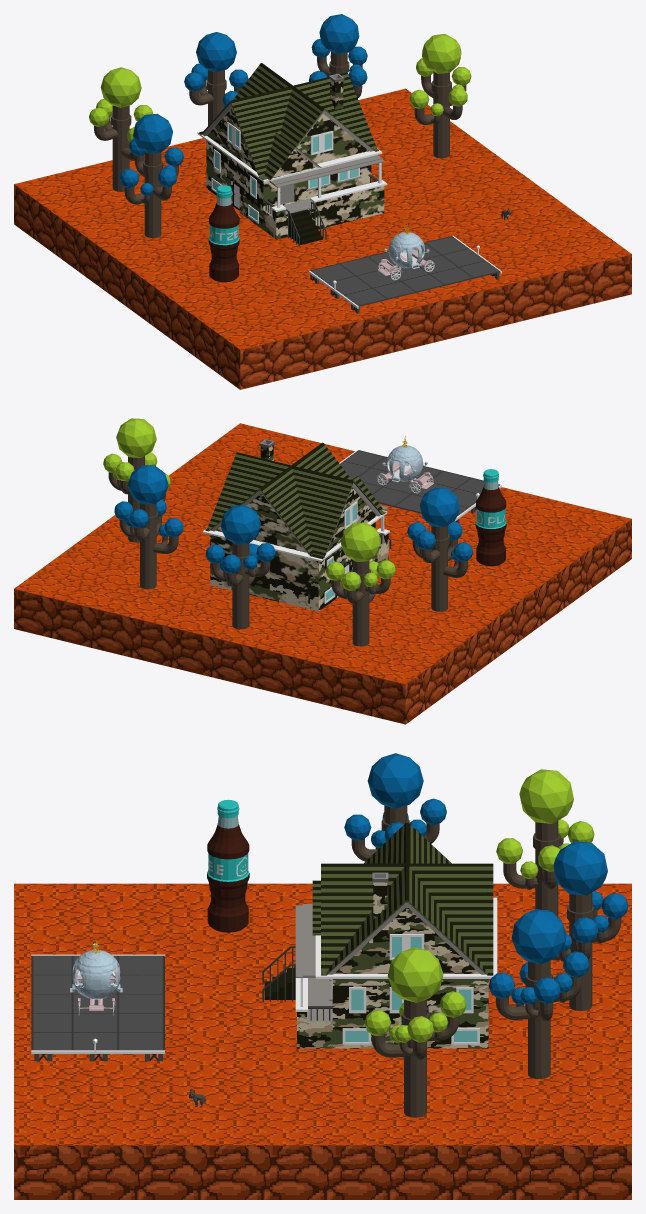
3 views of the same model, one above another, from view 1: azimuth 30°, elevation 25°; view 2: azimuth 150°, elevation 25°; view 3: azimuth 270°, elevation 25° (orthographic). The views are drawn at different scales.
Visible parts, largest first — view 1: Cube.001, Cube.002, OBJRANDOM_PLATZEECOLA, VEHICLES_FANTASY_CARRIAGE; view 2: Cube.001, Cube.002, OBJRANDOM_PLATZEECOLA, VEHICLES_FANTASY_CARRIAGE; view 3: Cube.001, Cube.002, OBJRANDOM_PLATZEECOLA, VEHICLES_FANTASY_CARRIAGE.
Part boxes in pixels (x1,y1,x2,y2): Cube.001: [14, 14, 631, 389]; Cube.002: [197, 63, 387, 246]; OBJRANDOM_PLATZEECOLA: [208, 185, 239, 282]; VEHICLES_FANTASY_CARRIAGE: [377, 223, 434, 280]; Cube.001: [14, 418, 631, 724]; Cube.002: [202, 439, 391, 611]; OBJRANDOM_PLATZEECOLA: [475, 469, 506, 566]; VEHICLES_FANTASY_CARRIAGE: [377, 436, 433, 493]; Cube.001: [14, 753, 631, 1199]; Cube.002: [262, 822, 497, 1048]; OBJRANDOM_PLATZEECOLA: [207, 799, 249, 932]; VEHICLES_FANTASY_CARRIAGE: [70, 939, 122, 1015].
Bounding box in the file's own units: 4000 × 1614 × 4000.
31 materials, 7 textured.
